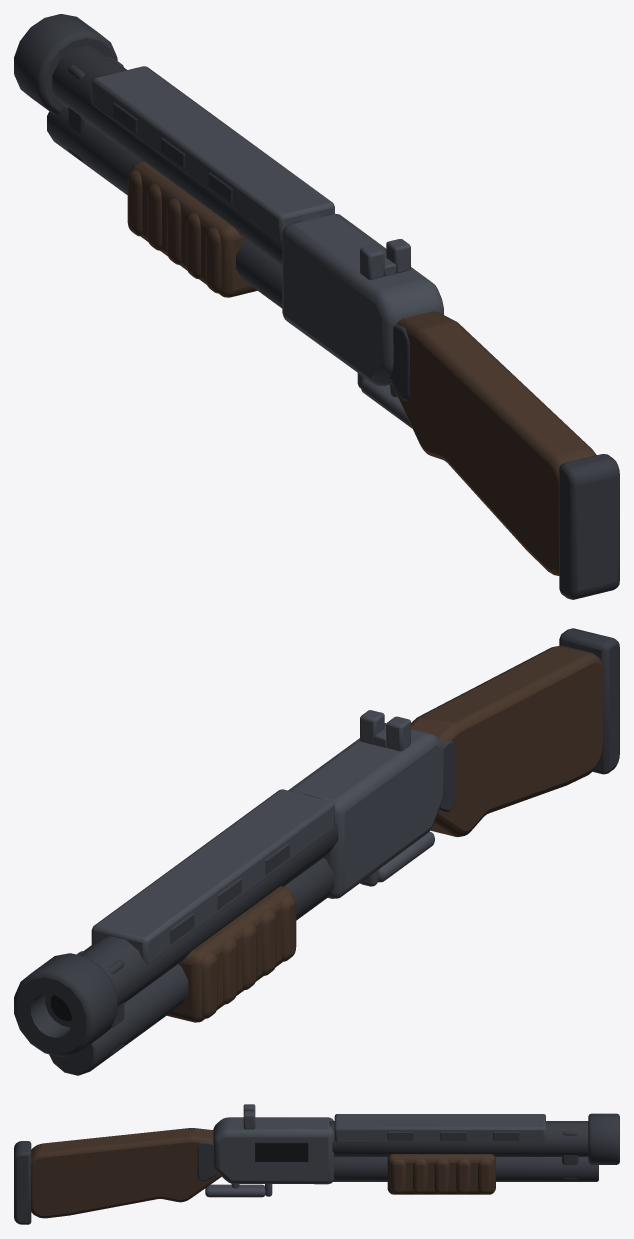
Rendered from w_shotgun.glb.
3 views of the same model, one above another, from view 1: azimuth 30°, elevation 25°; view 2: azimuth 150°, elevation 25°; view 3: azimuth 270°, elevation 25° (orthographic). The views are drawn at different scales.
Visible parts, largest first — view 1: stock_wzA, barrel_wzB, body_wzB, shield_wzB, pump_wzA, stock_wzB, sight_wzN, shield_wzN, stock_wzN; view 2: stock_wzA, barrel_wzB, body_wzB, shield_wzB, pump_wzA, stock_wzB, sight_wzN, shield_wzN, stock_wzN; view 3: stock_wzA, barrel_wzB, body_wzB, shield_wzB, pump_wzA, stock_wzB, trim_wzN, shield_wzN, stock_wzN, sight_wzN.
Boxes of the visible parts, bbox=[...] form: stock_wzA: bbox=[389, 311, 596, 575]; barrel_wzB: bbox=[14, 14, 322, 308]; body_wzB: bbox=[282, 213, 443, 428]; shield_wzB: bbox=[91, 66, 334, 241]; pump_wzA: bbox=[127, 161, 257, 297]; stock_wzB: bbox=[559, 454, 619, 599]; sight_wzN: bbox=[360, 239, 410, 279]; shield_wzN: bbox=[113, 102, 232, 203]; stock_wzN: bbox=[390, 324, 409, 401]; stock_wzA: bbox=[411, 645, 603, 837]; barrel_wzB: bbox=[14, 794, 338, 1075]; body_wzB: bbox=[288, 723, 444, 898]; shield_wzB: bbox=[91, 789, 334, 964]; pump_wzA: bbox=[167, 886, 296, 1022]; stock_wzB: bbox=[559, 628, 619, 774]; sight_wzN: bbox=[360, 710, 410, 751]; shield_wzN: bbox=[170, 843, 289, 944]; stock_wzN: bbox=[439, 740, 454, 811]; stock_wzA: bbox=[31, 1128, 221, 1218]; barrel_wzB: bbox=[329, 1113, 619, 1181]; body_wzB: bbox=[205, 1117, 334, 1197]; shield_wzB: bbox=[334, 1114, 545, 1142]; pump_wzA: bbox=[387, 1154, 495, 1194]; stock_wzB: bbox=[14, 1141, 31, 1224]; trim_wzN: bbox=[255, 1142, 308, 1161]; shield_wzN: bbox=[387, 1132, 519, 1140]; stock_wzN: bbox=[197, 1141, 217, 1181]; sight_wzN: bbox=[243, 1104, 255, 1129].
Size of the model in its own units: 0.1 by 0.2292 by 1.15.
